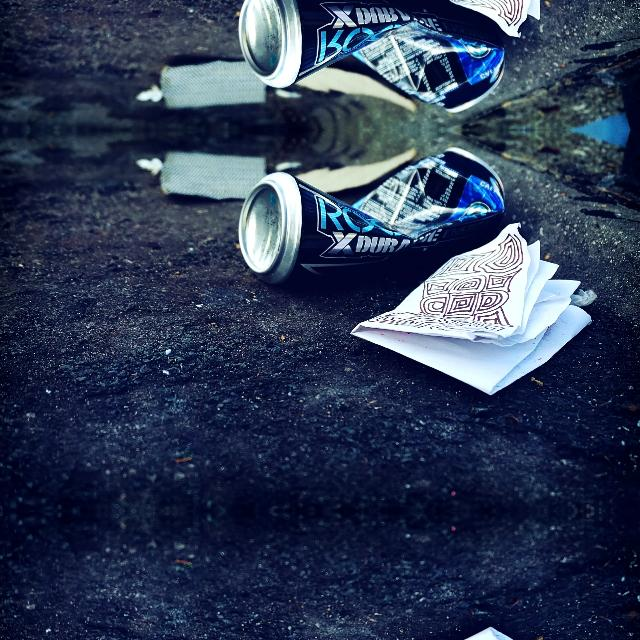Metal: (234, 142, 510, 298), (234, 0, 510, 116)
Paper: (348, 216, 598, 404), (348, 0, 598, 41)
